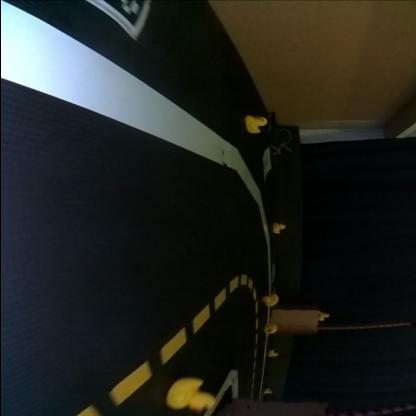Duckie: (165, 378, 215, 410), (245, 116, 268, 134), (263, 294, 279, 308), (264, 324, 278, 334), (273, 224, 286, 234), (319, 314, 329, 322), (269, 350, 278, 358)
QR code: (86, 1, 152, 39)
